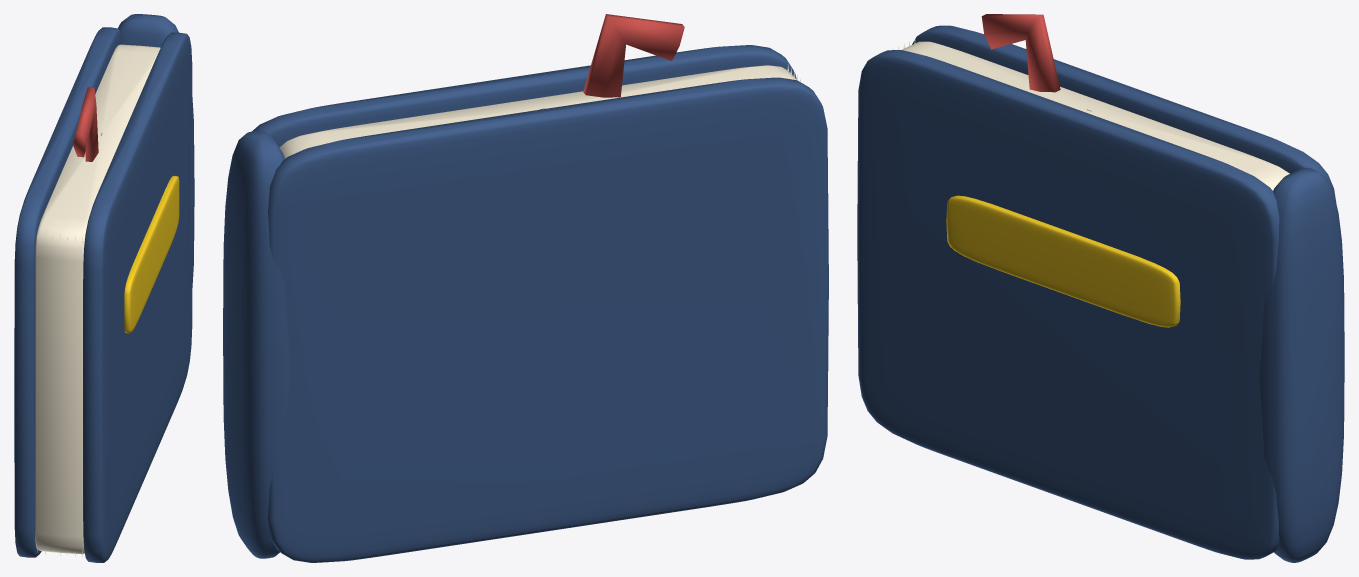
The model's file is book.glb.
The picture shows the model from 3 angles, left to right: view 1: azimuth 30°, elevation 25°; view 2: azimuth 150°, elevation 25°; view 3: azimuth 270°, elevation 25°; orthographic projection. The views are drawn at different scales.
Parts seen in each view (by area): view 1: book; view 2: book; view 3: book.
Part boxes in pixels (x1,y1,x2,y2): book: [14, 14, 194, 562]; book: [223, 14, 828, 562]; book: [857, 14, 1344, 562].
Bounding box in the file's own units: 0.3588 × 0.4096 × 0.4031.
